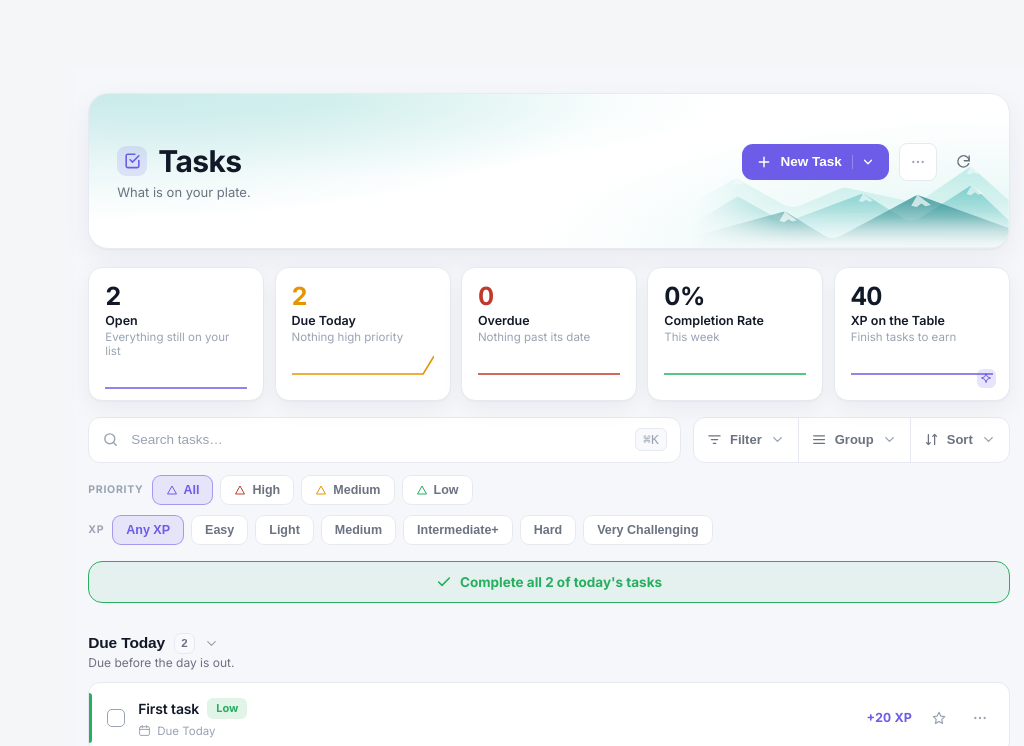
Test: finishing the day from the tasks page › then asks about each one in turn, not just the last
Click the button "Complete all 2 of today's tasks": (549, 582) [88,560,1010,602]
(page scrolled)
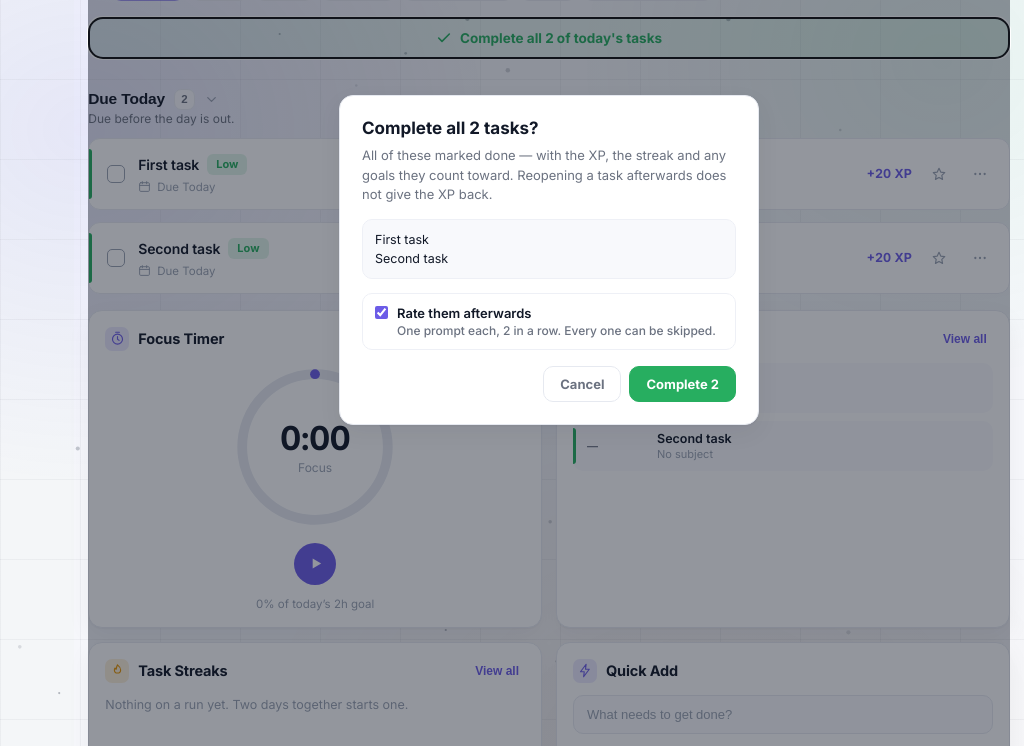
Click the button "Complete 2": (683, 384) [629,366,736,402]
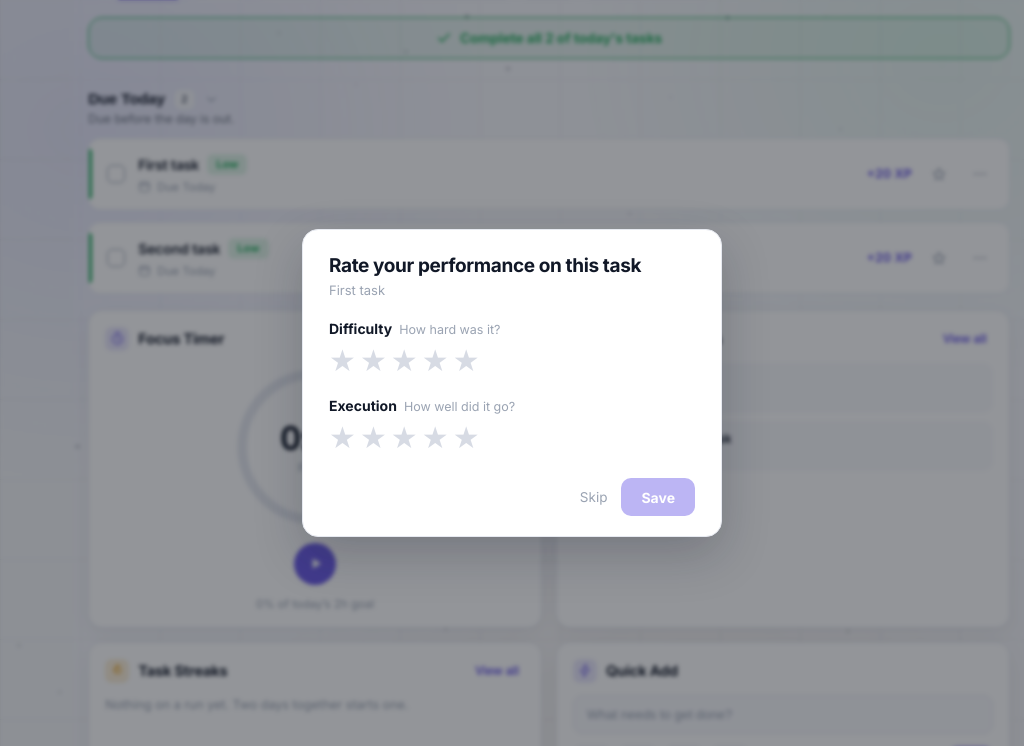
Result: the text "First task" is shown at [329,282,385,298]
Click the button "Skip": (594, 497) [580,489,607,505]
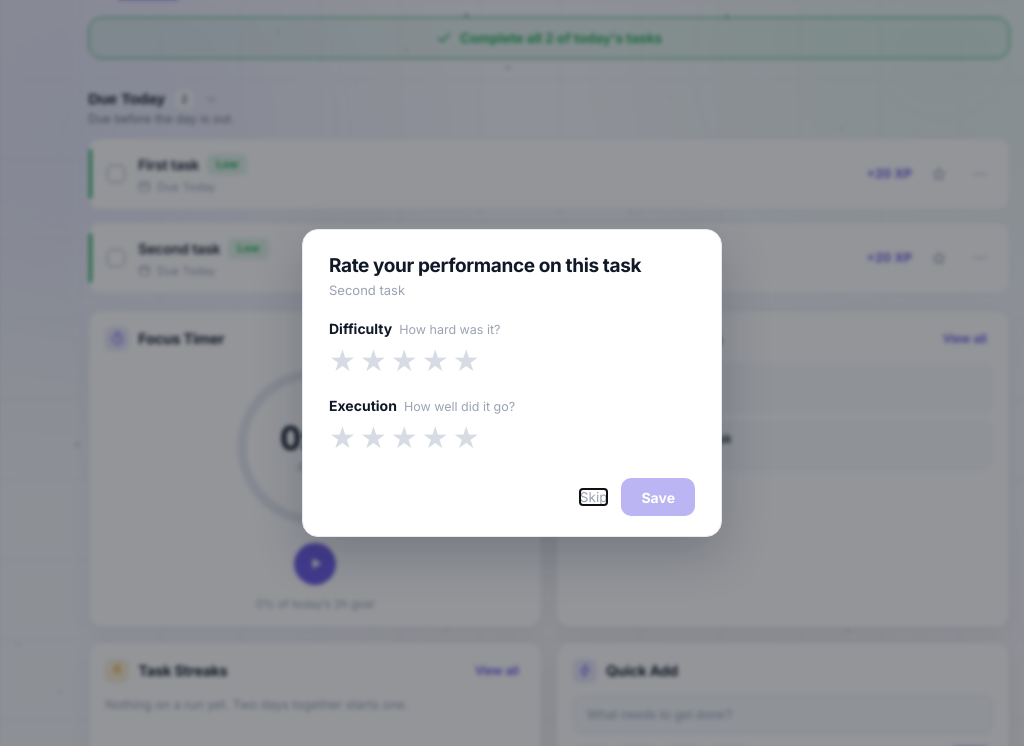
Result: the text "Second task" is shown at [329,282,405,298]
Click the button "Skip": (594, 497) [580,489,607,505]
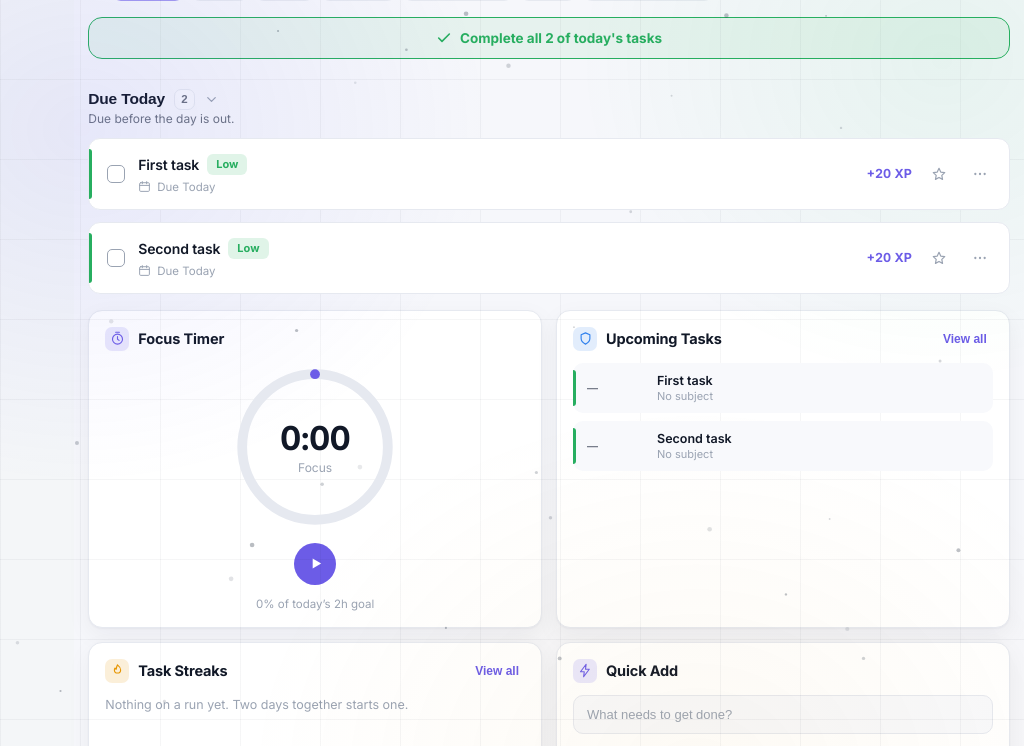
Result: the heading "Rate your performance on this task" is gone
